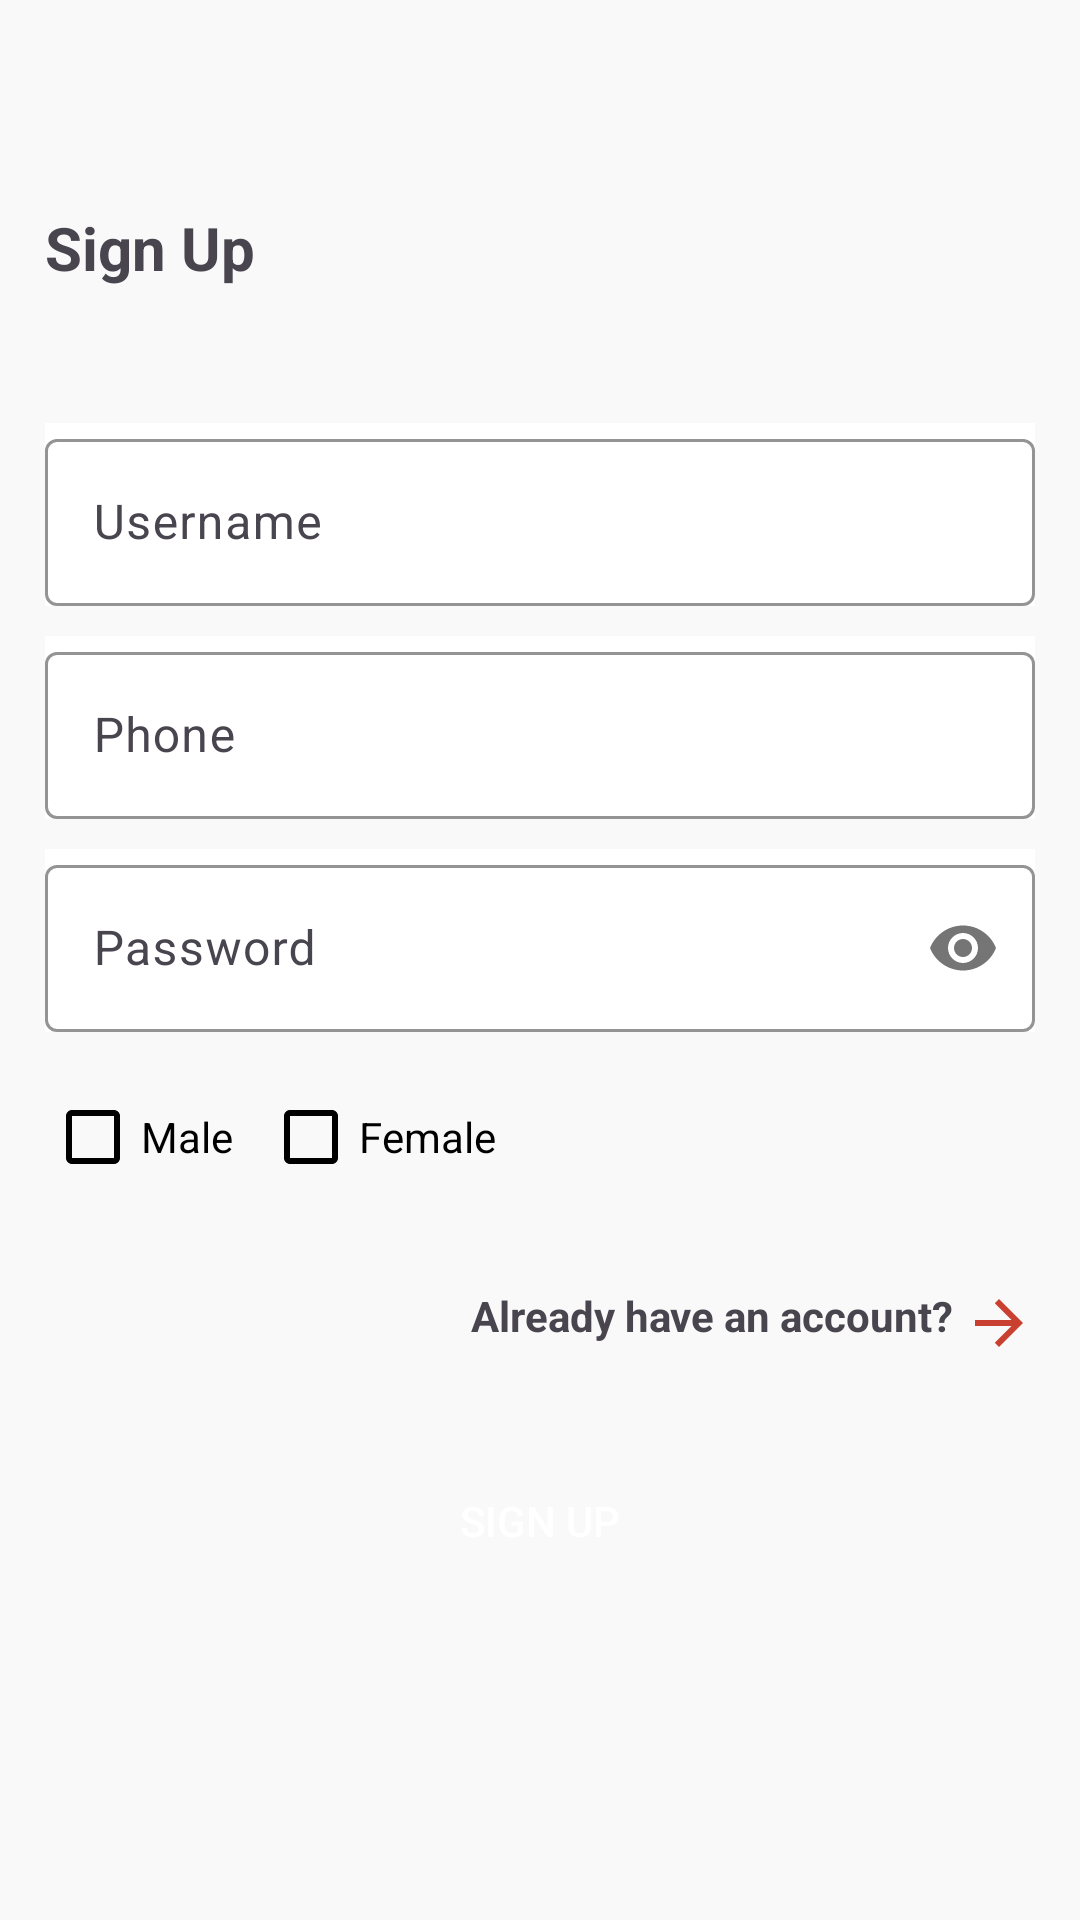

Point at icon controls on the screen. Image size 1080 x 1920, points as point (x, y).
arrow more: point (999, 1323)
